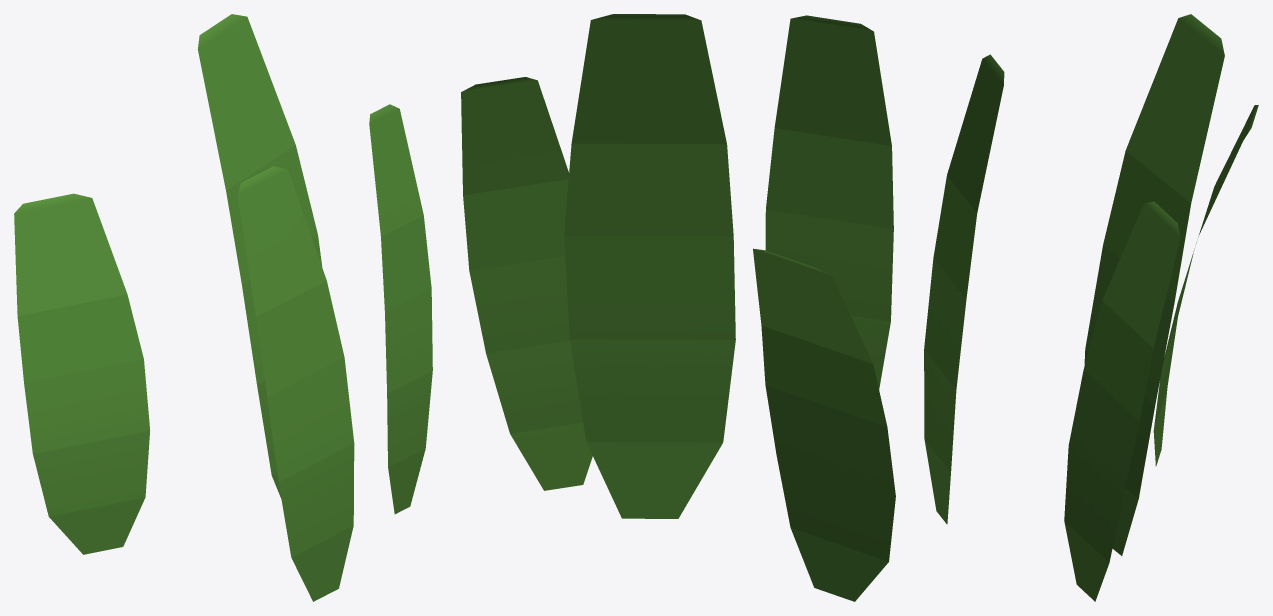
Rendered from Dino_Vege_Grass_B_mesh.fbx.
3 views of the same model, side by side, from view 1: azimuth 30°, elevation 25°; view 2: azimuth 150°, elevation 25°; view 3: azimuth 270°, elevation 25° (orthographic). The views are drawn at different scales.
Parts seen in each view (by area): view 1: Dino_Vege_Grass_B_mesh; view 2: Dino_Vege_Grass_B_mesh; view 3: Dino_Vege_Grass_B_mesh.
Boxes of the visible parts, x1,y1,x2,y2 form: Dino_Vege_Grass_B_mesh: (14, 14, 432, 601); Dino_Vege_Grass_B_mesh: (461, 14, 895, 601); Dino_Vege_Grass_B_mesh: (924, 14, 1258, 601).
Bounding box in the file's own units: 9.16 × 10.98 × 6.62.
